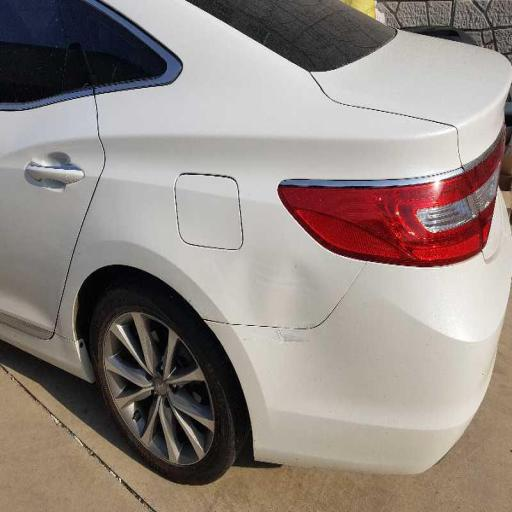scratch: (228, 235, 350, 390)
